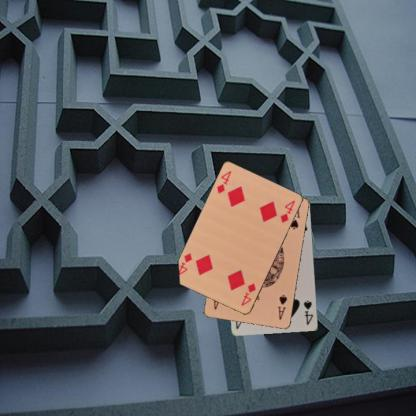4d: (214, 169, 233, 195), (239, 281, 257, 307)
4s: (301, 298, 314, 327)
As: (276, 292, 288, 322)
